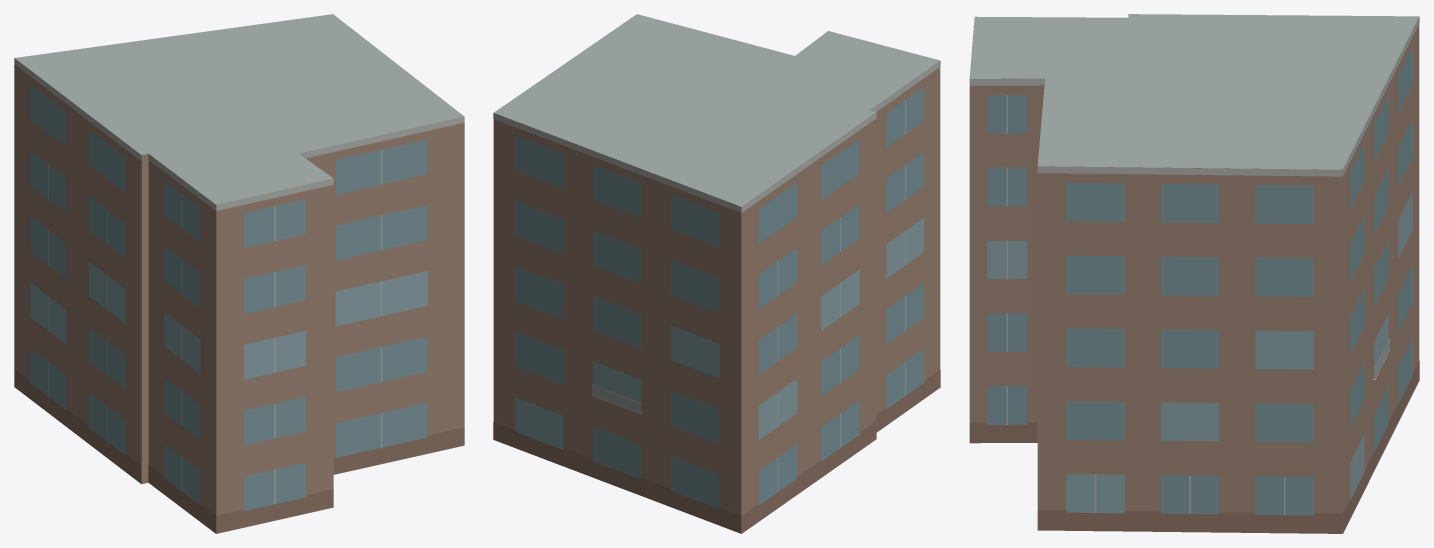
The model's file is survey-upis-32635910.glb.
The picture shows the model from 3 angles, left to right: view 1: azimuth 30°, elevation 25°; view 2: azimuth 150°, elevation 25°; view 3: azimuth 270°, elevation 25°; orthographic projection. The views are drawn at different scales.
Parts seen in each view (by area): view 1: survey-upis-32635910.tmp; view 2: survey-upis-32635910.tmp; view 3: survey-upis-32635910.tmp.
Boxes of the visible parts, <box> form: survey-upis-32635910.tmp: <box>14,14,464,533</box>; survey-upis-32635910.tmp: <box>493,14,940,533</box>; survey-upis-32635910.tmp: <box>969,14,1419,533</box>.
Size of the model in its own units: 11.84 by 12.9 by 14.46.
